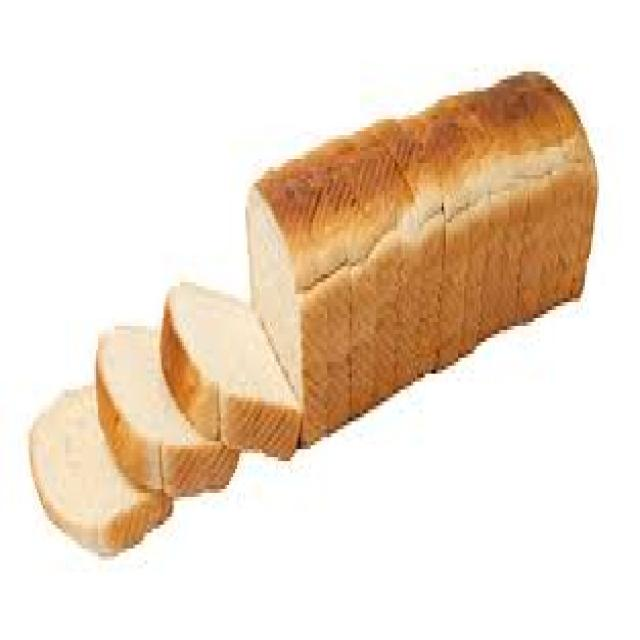Bread: (162, 284, 300, 456), (31, 386, 171, 553), (99, 328, 238, 495)
